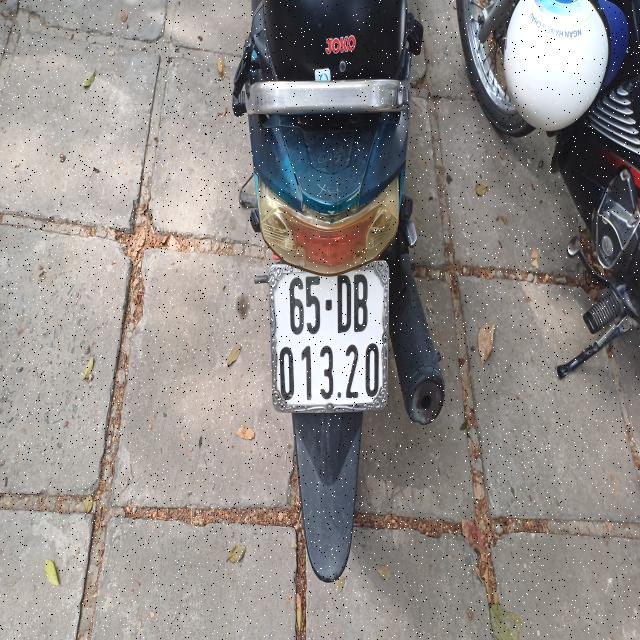0: (278, 344, 294, 402), (364, 340, 379, 399)
1: (301, 340, 313, 406)
2: (345, 339, 358, 398)
3: (319, 344, 334, 400)
4: (267, 264, 391, 414)
5: (305, 274, 322, 335)
6: (289, 275, 304, 334)
B: (354, 269, 370, 336)
D: (336, 271, 353, 336)
